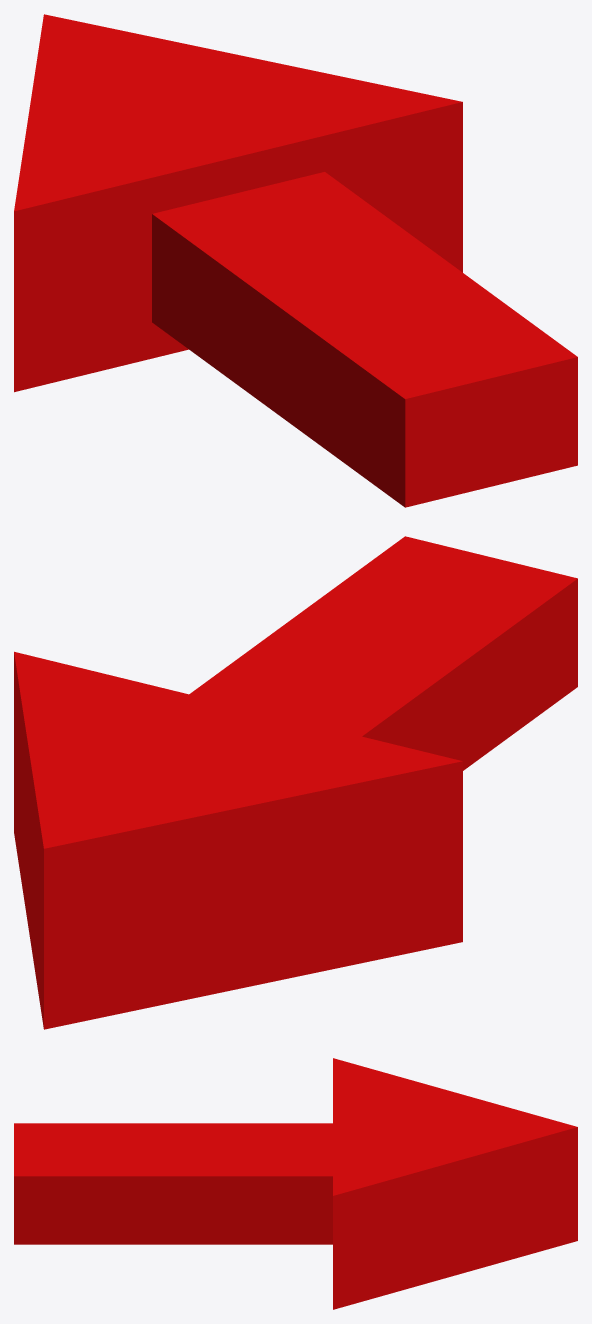
File: Arrow.fbx
3 renders of one model, top to bottom at view 1: azimuth 30°, elevation 25°; view 2: azimuth 150°, elevation 25°; view 3: azimuth 270°, elevation 25°, orthographic. The views are drawn at different scales.
Parts seen in each view (by area): view 1: 立方体; view 2: 立方体; view 3: 立方体.
Boxes of the visible parts, x1=… form: 立方体: x1=14, y1=14, x2=577, y2=507; 立方体: x1=14, y1=536, x2=577, y2=1029; 立方体: x1=14, y1=1058, x2=577, y2=1309.
Bounding box in the file's own units: 260 × 100 × 449.
